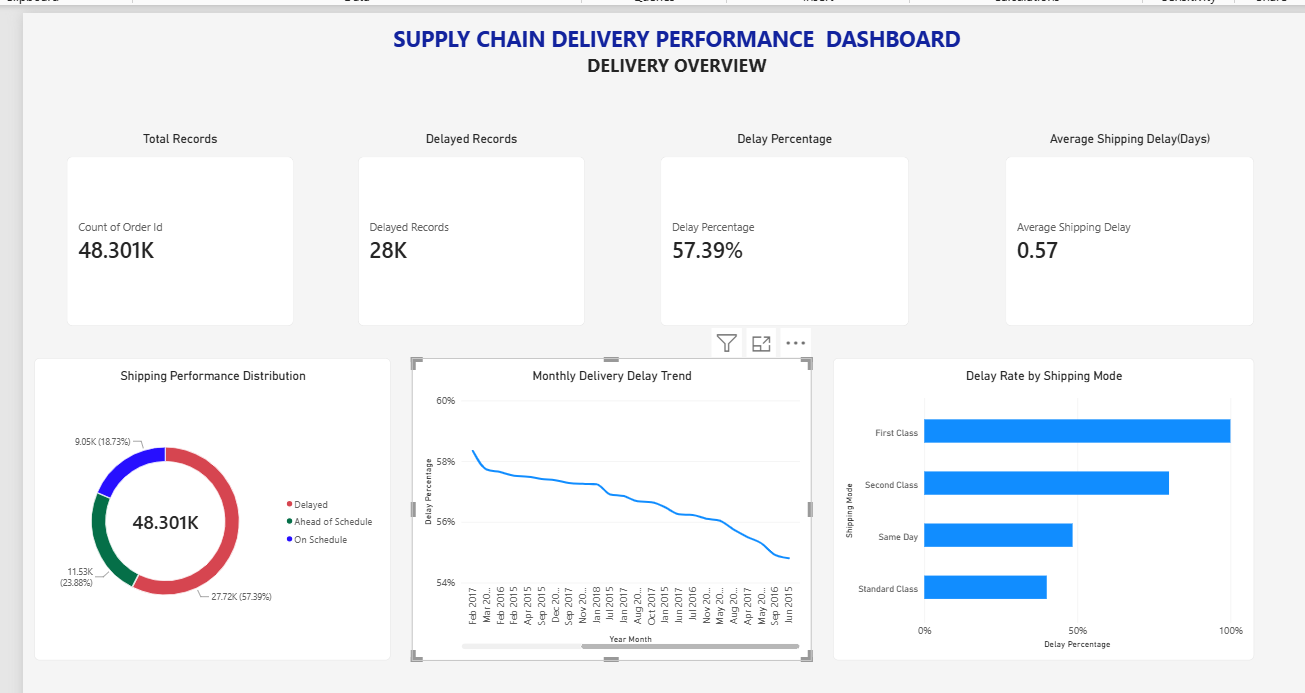

This screenshot's page, from the dashboard's own definition file:
{"tool":"powerbi","page":{"name":"Delivery Overview","canvas":[1920,1080],"ordinal":0},"visuals":[{"type":"cardVisual","title":"Total Records","fields":{"Data":["CountNonNull(Supply_Chain_Cleaned_Data.Order Id)"]},"box":[64,176,336,288],"z":0},{"type":"cardVisual","title":"Delayed Records","fields":{"Data":["Supply_Chain_Cleaned_Data.Delayed Records"]},"box":[496,176,336,288],"z":1000},{"type":"cardVisual","title":"Delay Percentage","fields":{"Data":["Supply_Chain_Cleaned_Data.Delay Percentage"]},"box":[944,176,368,288],"z":2000},{"type":"cardVisual","title":"Average Shipping Delay(Days)","fields":{"Data":["Supply_Chain_Cleaned_Data.Average Shipping Delay"]},"box":[1456,176,368,288],"z":3000},{"type":"donutChart","title":"Shipping Performance Distribution","fields":{"Category":["Supply_Chain_Cleaned_Data.Shipping Performance"],"Y":["CountNonNull(Supply_Chain_Cleaned_Data.Order Id)"]},"box":[16,512,528,448],"z":4000},{"type":"textbox","box":[16,16,1904,96],"z":5000},{"type":"lineChart","title":"Monthly Delivery Delay Trend","fields":{"Category":["Supply_Chain_Cleaned_Data.Year Month"],"Y":["Supply_Chain_Cleaned_Data.Delay Percentage"]},"box":[576,512,688,432],"z":6000},{"type":"clusteredBarChart","title":"Delay Rate by Shipping Mode","fields":{"Category":["Supply_Chain_Cleaned_Data.Shipping Mode"],"Y":["Supply_Chain_Cleaned_Data.Delay Percentage"]},"box":[1296,496,624,448],"z":7000}]}

Visuals, with their boxes on the page's 1920x1080 design canvas (x1, y1, x2, y2). These are canvas units, not pixel positions in the 1305x693 screenshot, which may show the page scaled, cropped or inside an application window:
"Total Records" cardVisual: 64/176/400/464
"Delayed Records" cardVisual: 496/176/832/464
"Delay Percentage" cardVisual: 944/176/1312/464
"Average Shipping Delay(Days)" cardVisual: 1456/176/1824/464
"Shipping Performance Distribution" donutChart: 16/512/544/960
textbox: 16/16/1920/112
"Monthly Delivery Delay Trend" lineChart: 576/512/1264/944
"Delay Rate by Shipping Mode" clusteredBarChart: 1296/496/1920/944
